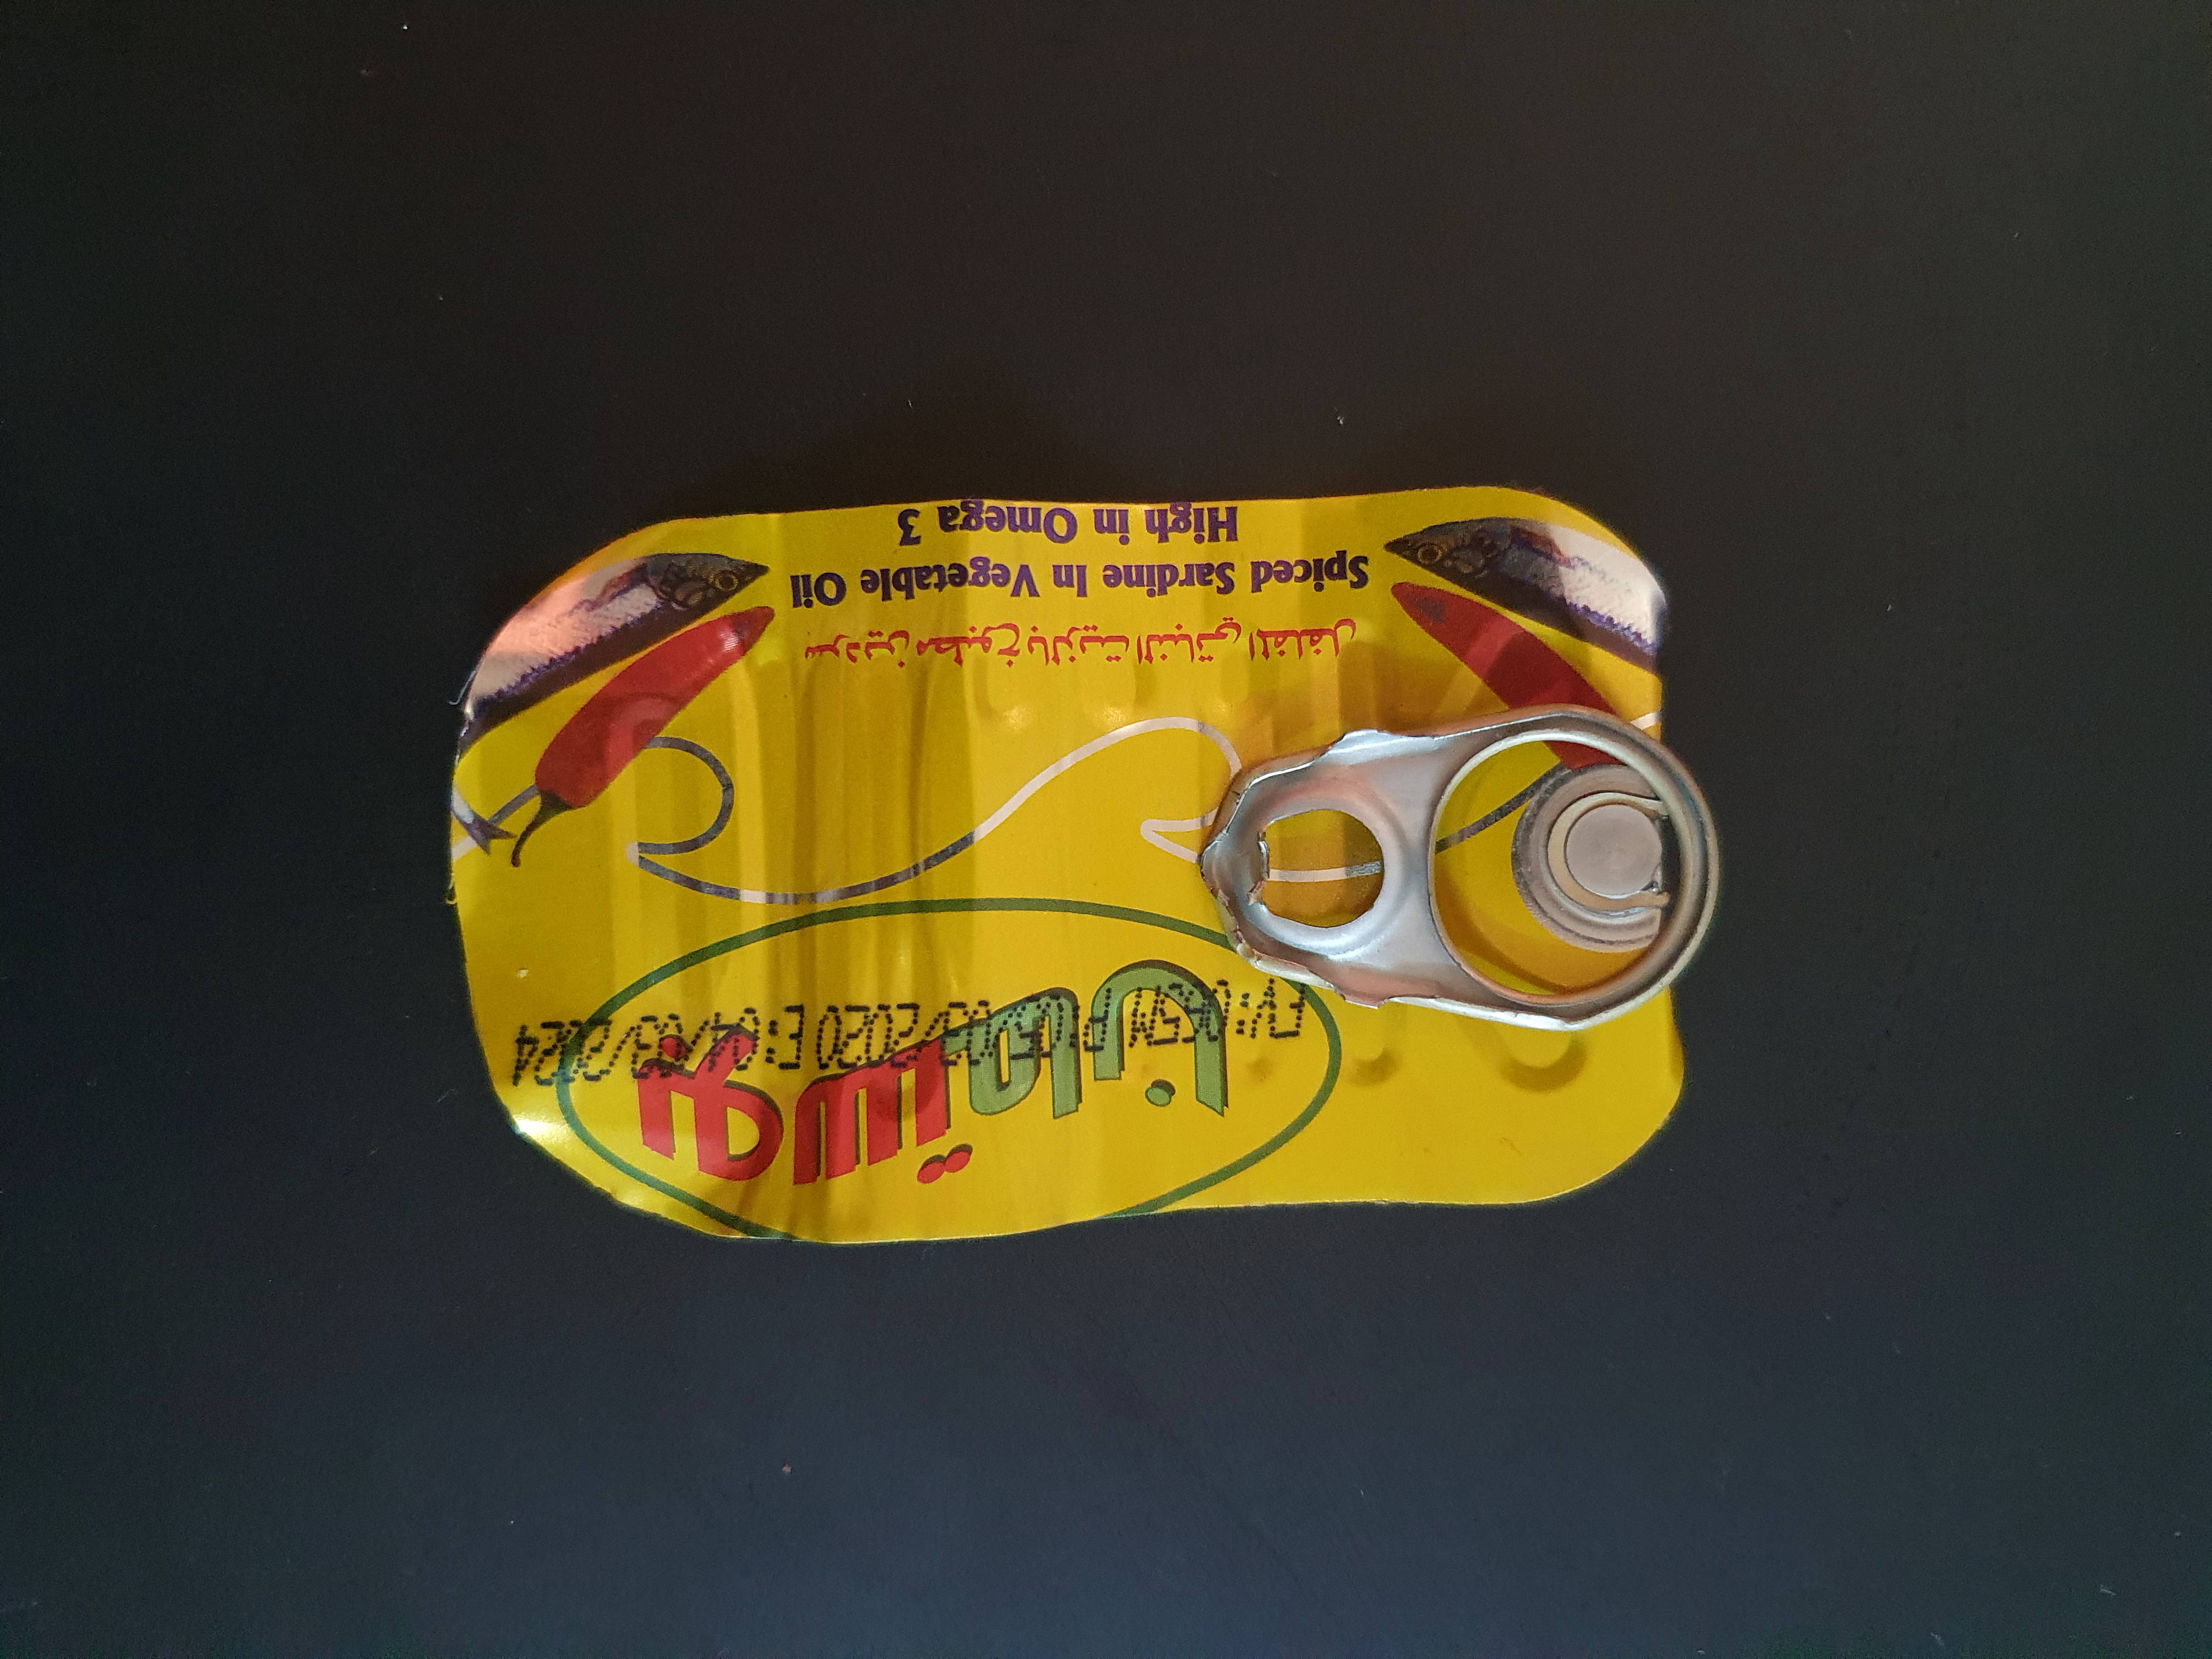metal: (361, 382, 1806, 1298)
